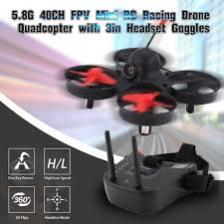drone: (50, 41, 224, 133)
